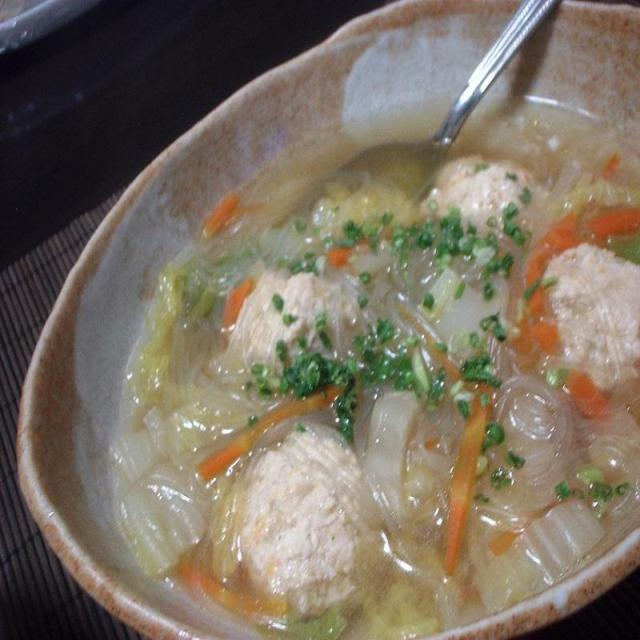汤锅炖物: (20, 0, 640, 636)
